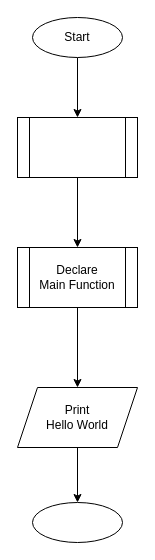
This 155x560 diagram has some shape labels left out. The shapes that lost their labels are listed below. From the top down, each one's centre as x and y in pixels, then its label:
At point (77, 147): "Declare Libraries".
At point (77, 522): "Stop".
